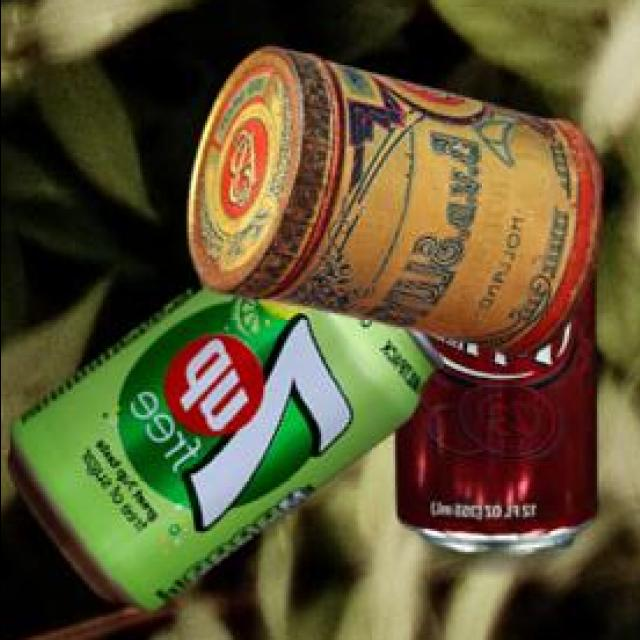logam: (3, 277, 439, 606), (184, 43, 597, 351), (391, 271, 592, 551)
